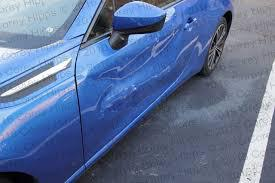doorouter-dent: (78, 49, 168, 137)
